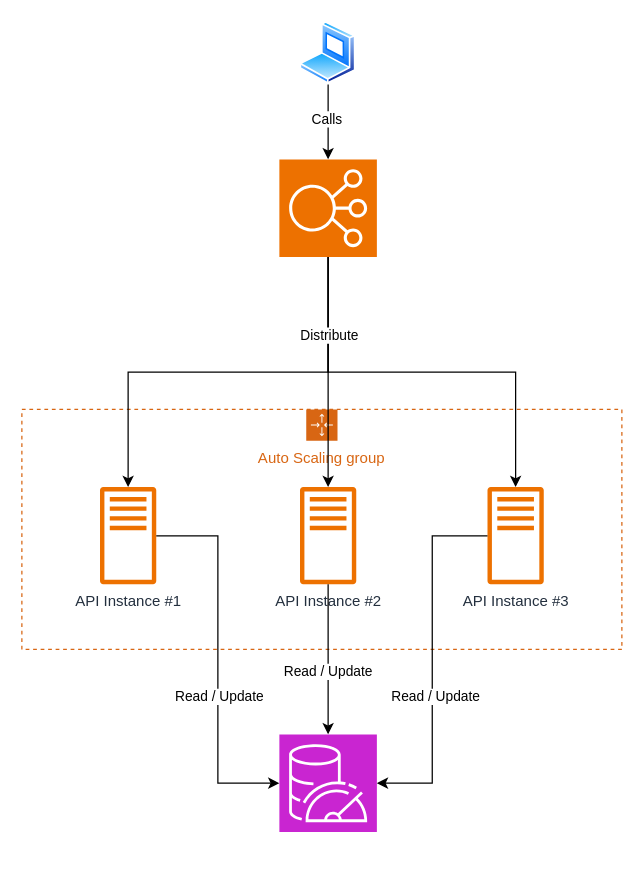
The diagram is 644 pixels wide and 879 high, and some of its shapes have lost their labels. The shapes that lost their labels are listed below. From the top down, each one's centre as x and y in pixels, then its label:
At point (327, 207): "Load Balancer (ELB)".
At point (327, 782): "Shared Rate Limits (Redis)".
